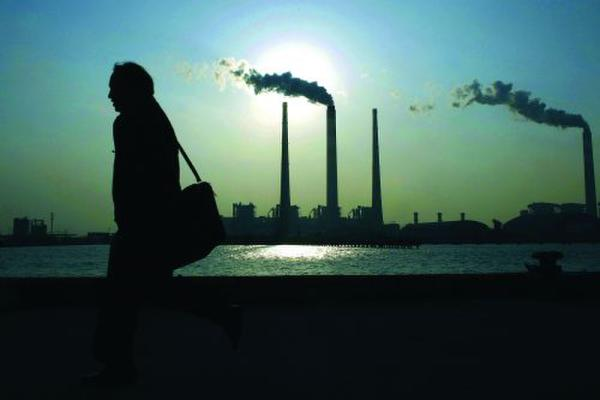dust: (442, 68, 595, 140), (210, 47, 347, 114)
